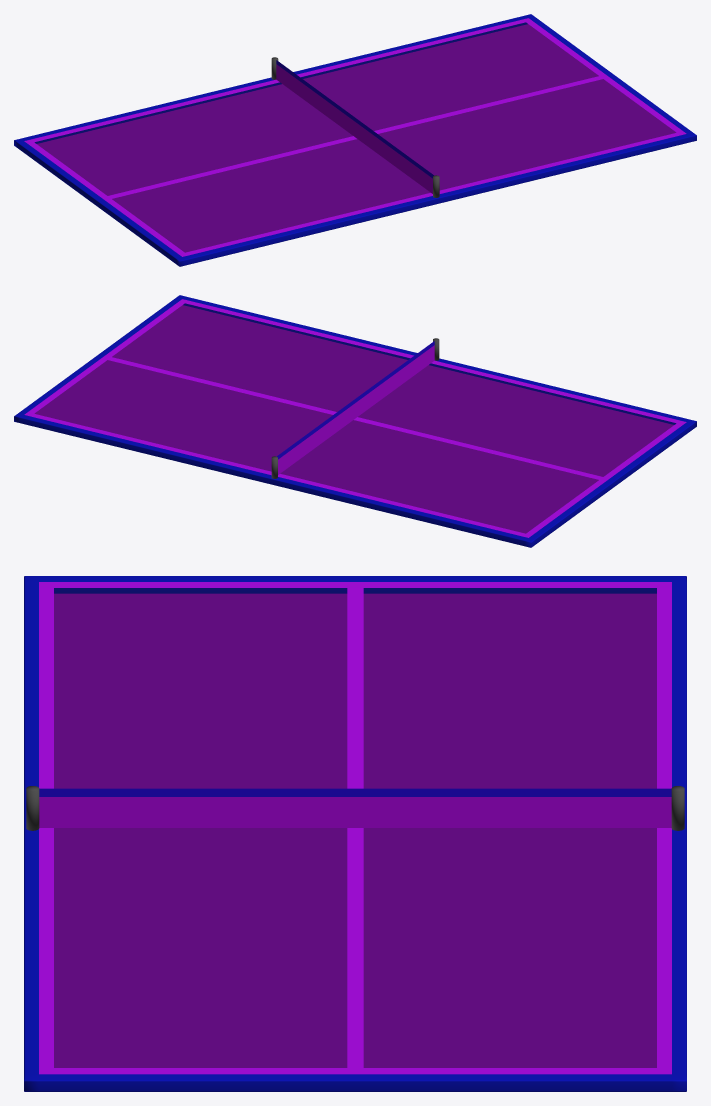
Rendered from table3.dae.
The picture shows the model from 3 angles, top to bottom: view 1: azimuth 30°, elevation 25°; view 2: azimuth 150°, elevation 25°; view 3: azimuth 270°, elevation 25°; orthographic projection. The views are drawn at different scales.
Parts seen in each view (by area): view 1: Box001, Plane001; view 2: Box001, Plane001; view 3: Box001, Plane001.
Part boxes in pixels (box(x1,y1,x2,y2)): Box001: box(14, 14, 696, 266); Plane001: box(276, 60, 433, 193); Box001: box(14, 295, 696, 547); Plane001: box(277, 341, 434, 474); Box001: box(24, 576, 686, 1091); Plane001: box(39, 788, 671, 827).
Bounding box in the file's own units: 2.74 × 1.52 × 0.13.
